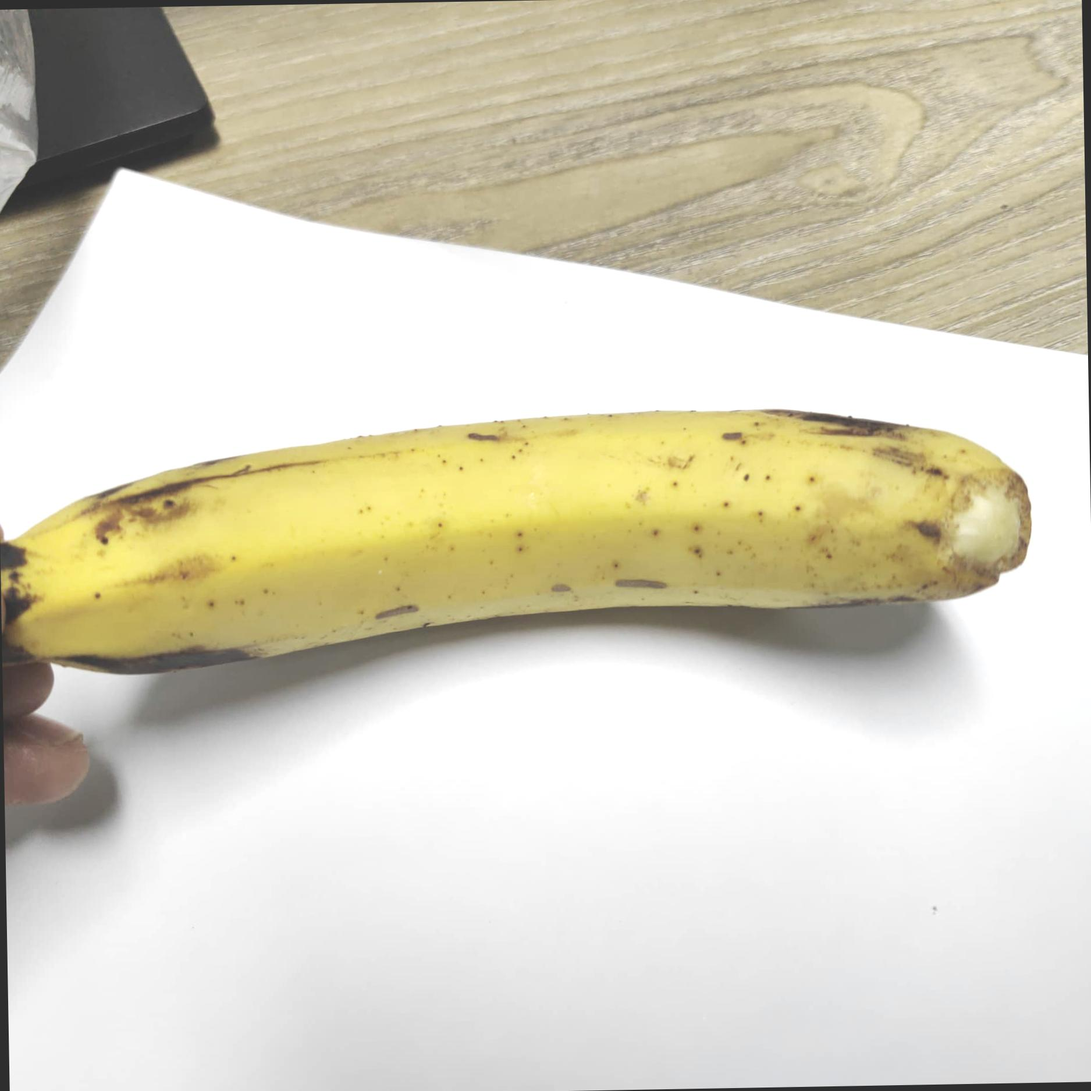Banana Ripe: (0, 363, 1091, 839)
